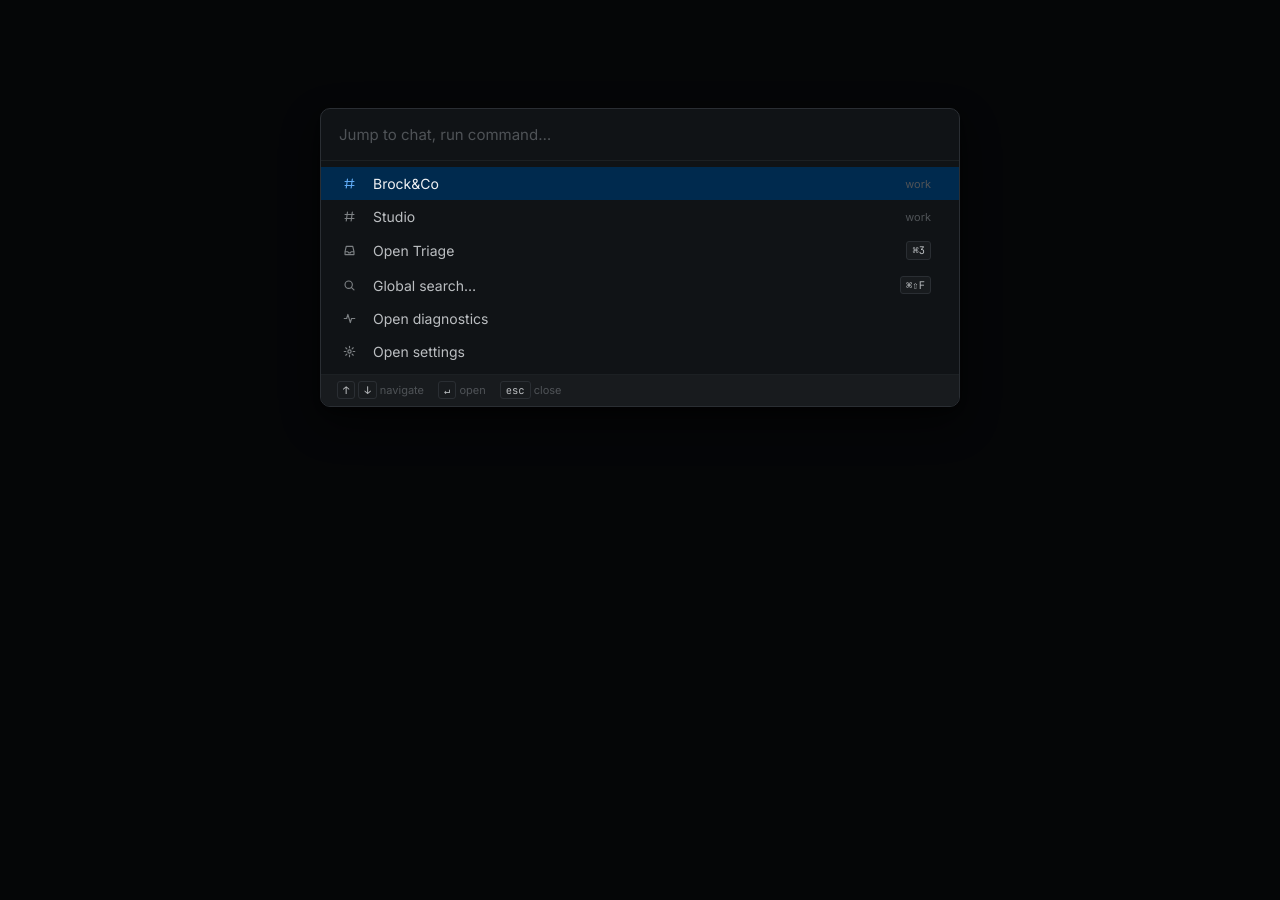
Scenario: CommandPalette › filters by query string
Expected: the text "Brock&Co" is shown, [373,175,439,192]
Type "stu" into the field with placeholder "Jump to chat, run command…" at (640, 135), box [321,109,959,161]
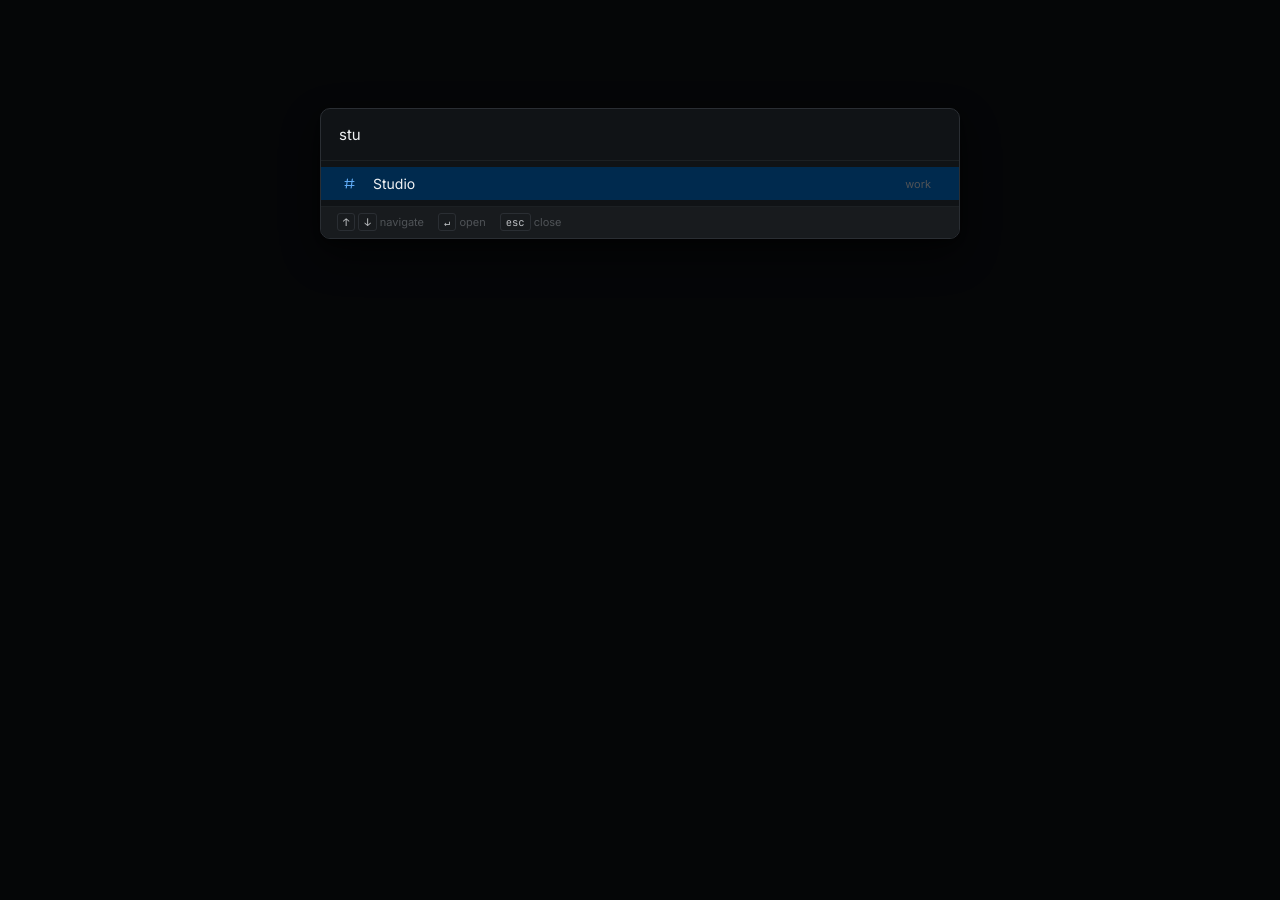
Expected: the text "Studio" is shown, [373,175,415,192]
Now the option "Brock&Co" is gone
